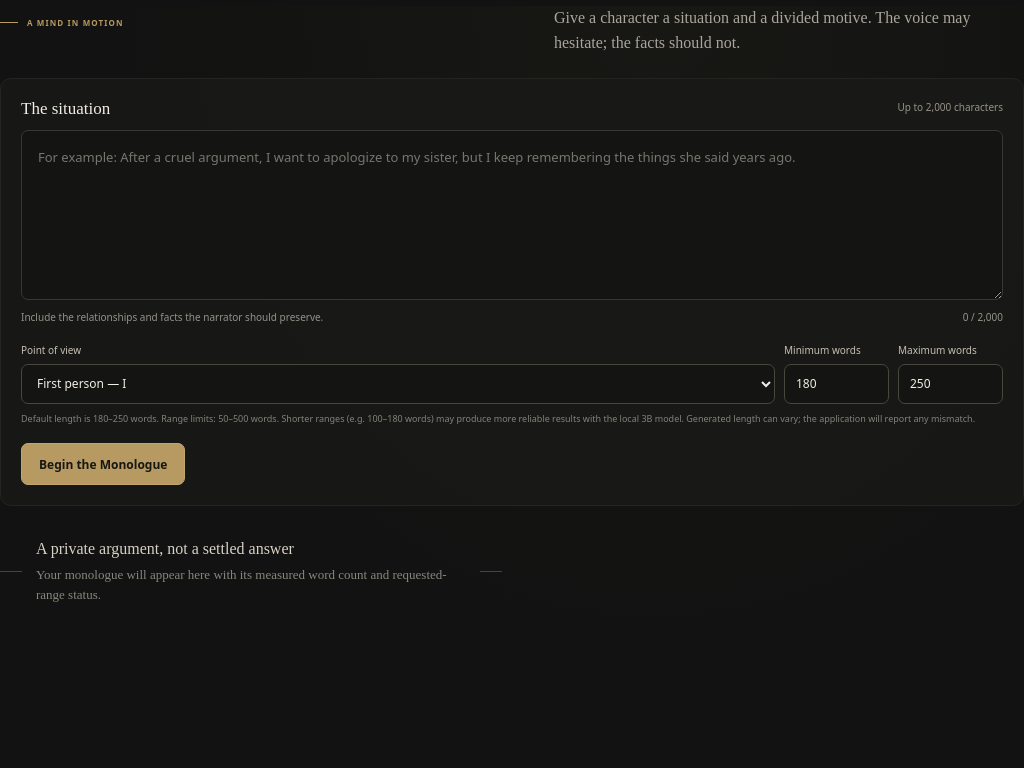
Scenario: InnerMonologue component › validates that minimum words do not exceed maximum words
Type "A dilemma at dusk." into the text box labelled "The situation Up to 2,000 characters" at [512, 215], box [21,130,1003,300]
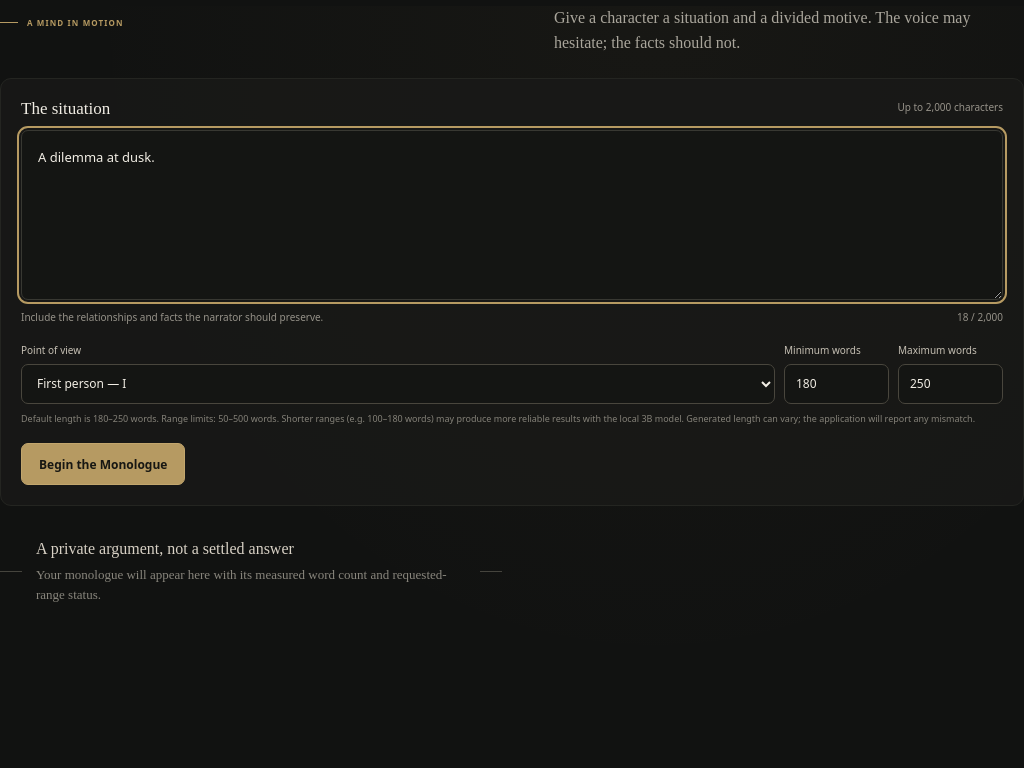
Replace the text in the number field labelled "Minimum words" with "300" at [836, 384], box [784,364,889,404]
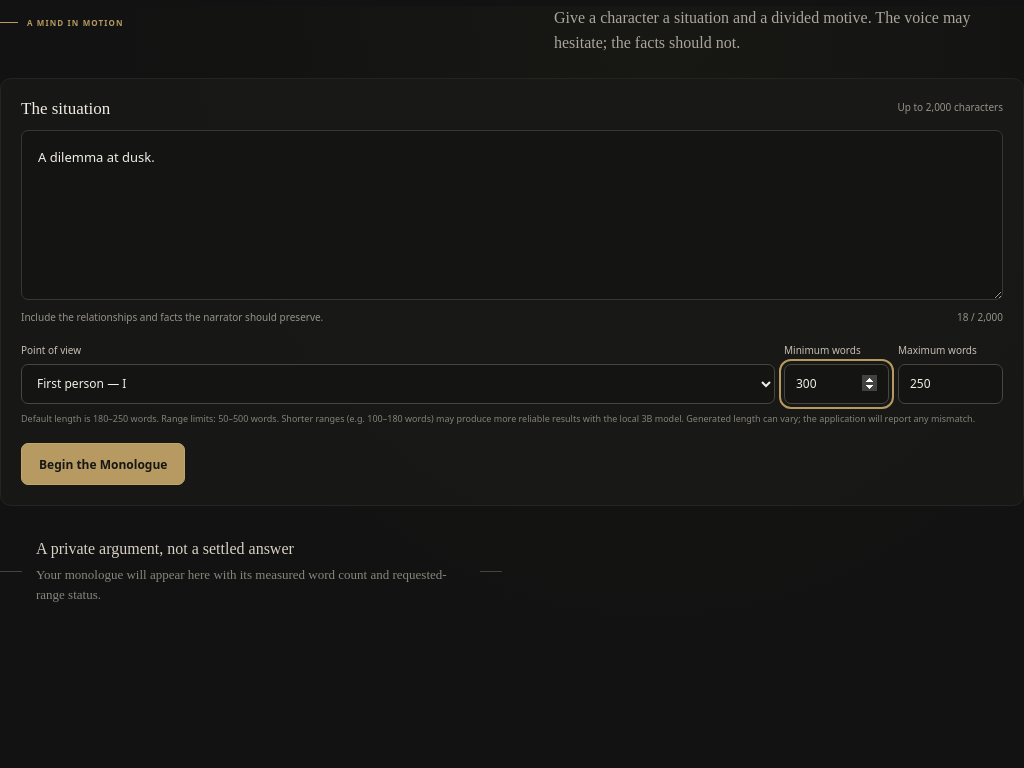
Replace the text in the number field labelled "Maximum words" with "200" at [950, 384], box [898,364,1003,404]
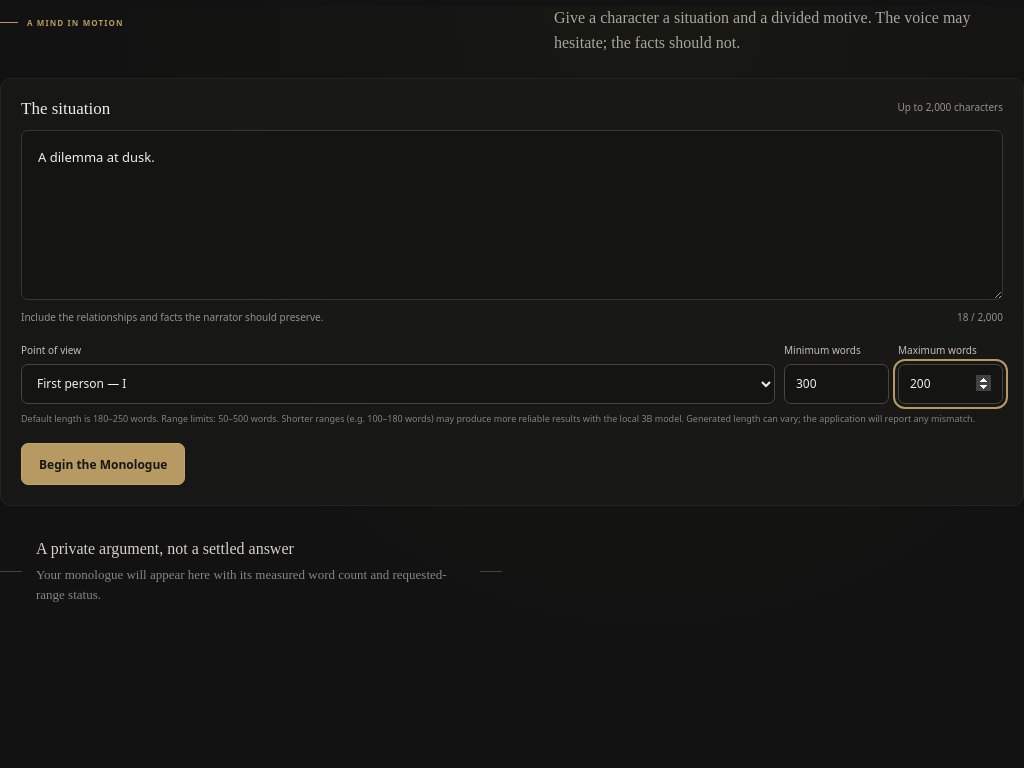
Click the button "Begin the Monologue" at [103, 464], box [21,443,185,485]
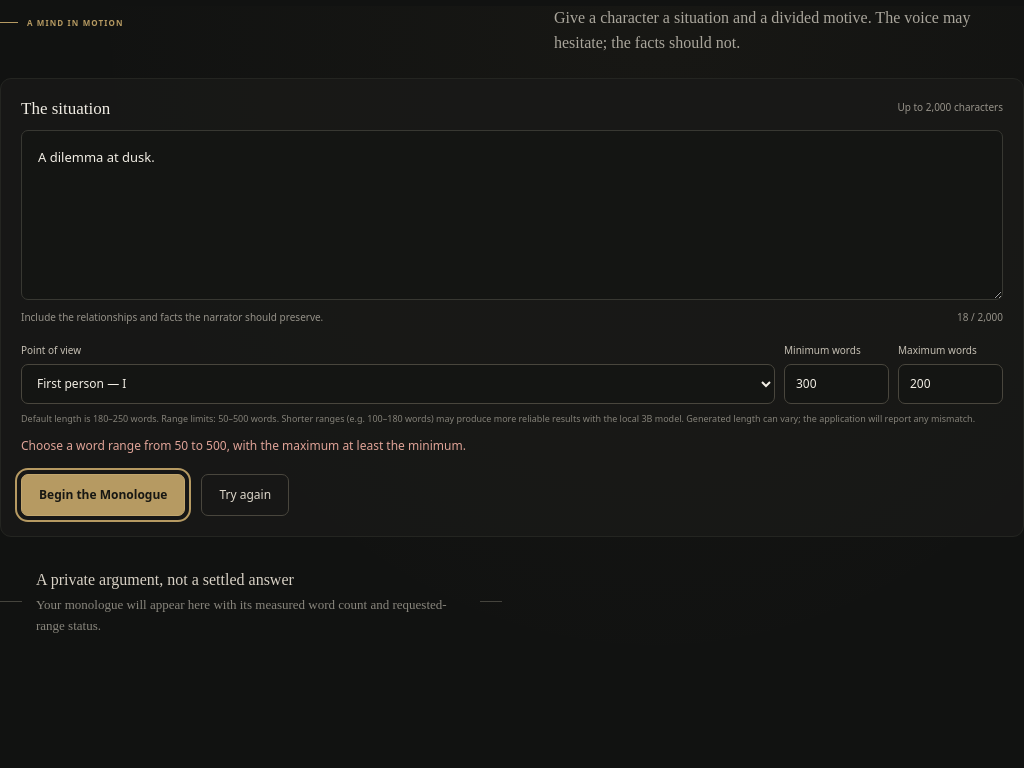
Expected: the message "Choose a word range from 50 to 500, with the maximum at least the minimum." is shown, [21,437,466,454]
